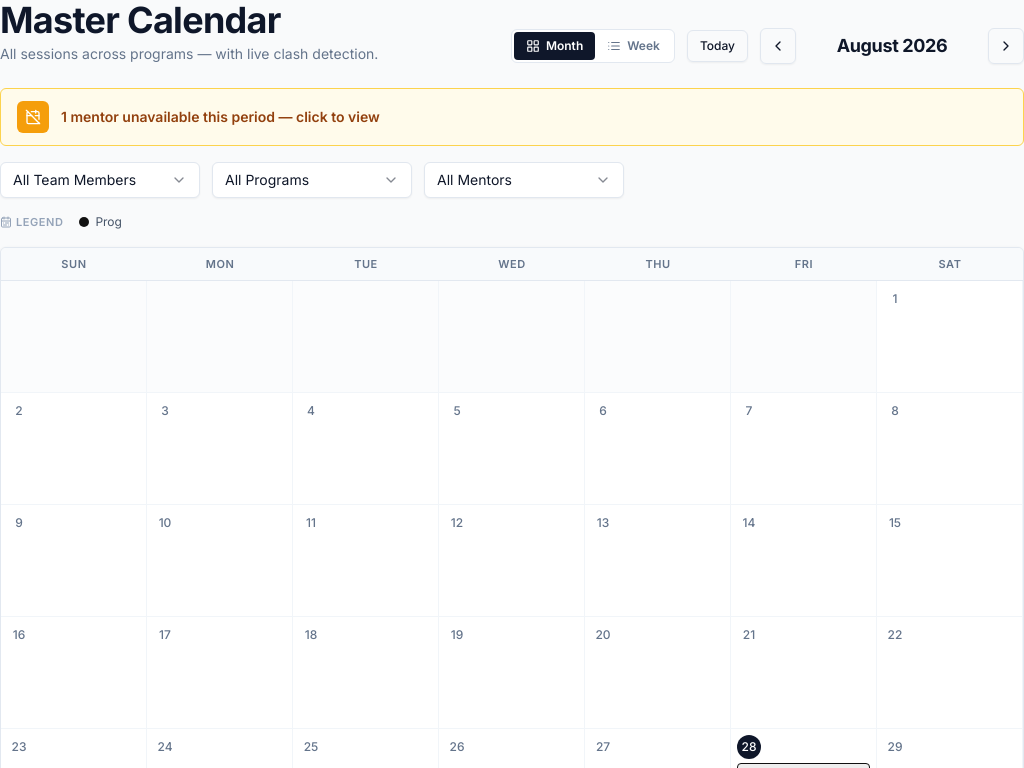
Test: CalendarPage › mentor unavailability banner opens a panel with a link to manage it
Later steps or results of the test are not shown.
What coordinates should you click on to do the following:
click the button with test id "unavailability-banner"
I would click on:
 (33, 117)
Its box is x1=0 y1=88 x2=1023 y2=146.
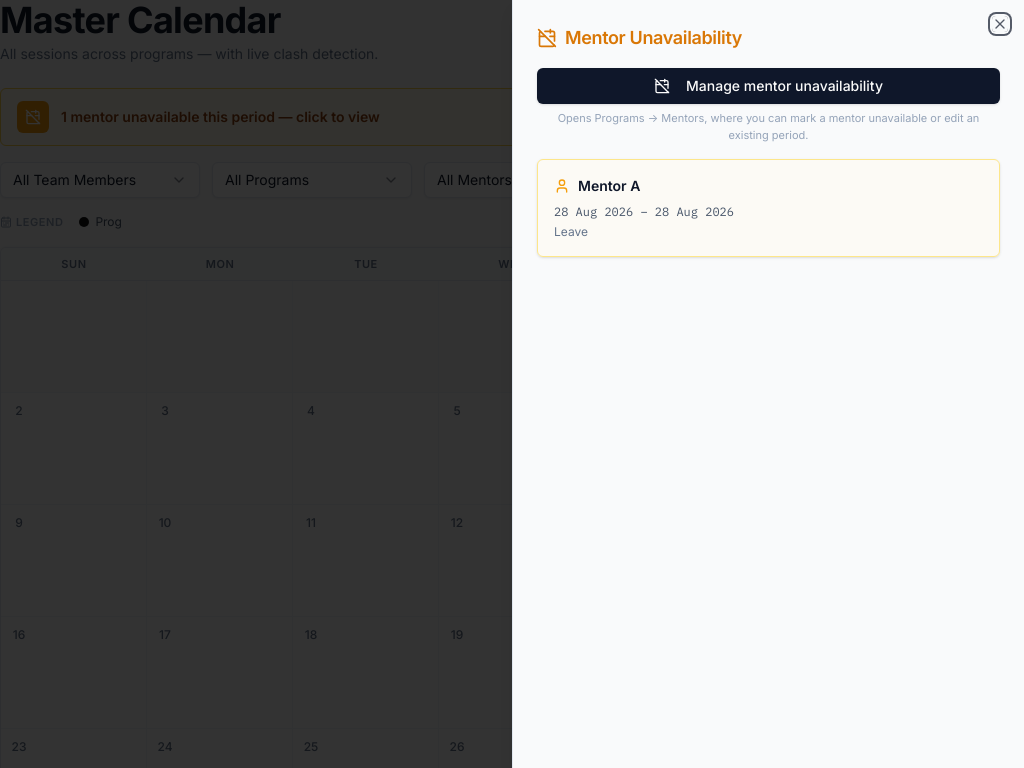
expect the dialog with test id "unavailability-panel" is shown: met, box x1=512 y1=0 x2=1023 y2=767
expect the element with test id "unavailability-item" shows "Mentor A": met, box x1=578 y1=177 x2=640 y2=194
